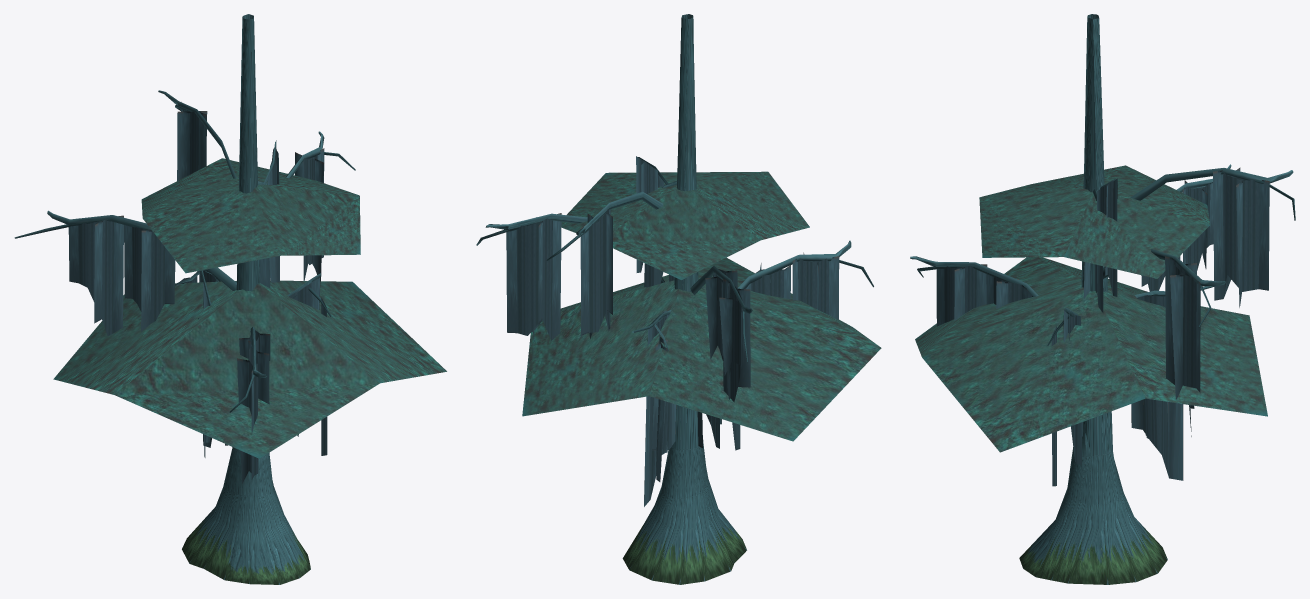
Rendered from swamp_tree_swap_6.fbx.
The picture shows the model from 3 angles, left to right: view 1: azimuth 30°, elevation 25°; view 2: azimuth 150°, elevation 25°; view 3: azimuth 270°, elevation 25°; orthographic projection.
Visible parts, largest first — view 1: leaves, leaves1, trunk, moss_16, moss_12, moss_15, moss_19, branch__3, moss_18, branch__4; view 2: leaves, leaves1, trunk, moss_18, moss_19, moss_16, moss_15, moss_13, moss_12, branch__2, moss_14, moss_17 (+4 smaller); view 3: leaves, leaves1, trunk, moss_19, moss_18, moss_13, moss_15, branch__4, moss_16, moss_14, moss_5, branch__2 (+2 smaller).
Part boxes in pixels (x1,y1,x2,y2): leaves: (53, 280, 446, 458); leaves1: (141, 158, 360, 273); trunk: (182, 14, 310, 584); moss_16: (68, 215, 123, 335); moss_12: (124, 225, 175, 331); moss_15: (237, 340, 269, 484); moss_19: (177, 109, 207, 180); branch__3: (14, 210, 236, 290); moss_18: (295, 148, 324, 281); branch__4: (158, 90, 236, 178); leaves: (522, 257, 881, 441); leaves1: (561, 171, 809, 279); trunk: (622, 14, 746, 584); moss_18: (506, 213, 561, 341); moss_19: (580, 201, 612, 338); moss_16: (719, 279, 750, 402); moss_15: (792, 252, 839, 319); moss_13: (644, 310, 676, 506); moss_12: (705, 269, 737, 360); branch__2: (737, 240, 873, 288); moss_14: (745, 263, 790, 299); moss_17: (651, 334, 667, 481); leaves: (915, 257, 1267, 452); leaves1: (979, 165, 1210, 278); trunk: (1019, 14, 1167, 584); moss_19: (1213, 167, 1269, 307); moss_18: (1165, 256, 1200, 399); moss_13: (1131, 295, 1183, 480); moss_15: (936, 264, 987, 326); branch__4: (1130, 168, 1295, 220); moss_16: (1182, 180, 1213, 270); moss_14: (986, 274, 1031, 308); moss_5: (1097, 178, 1117, 296); branch__2: (910, 256, 1038, 296).
Size of the model in its own units: 8730 by 13882 by 8914.
Materials: 2 (2 with a texture image).
